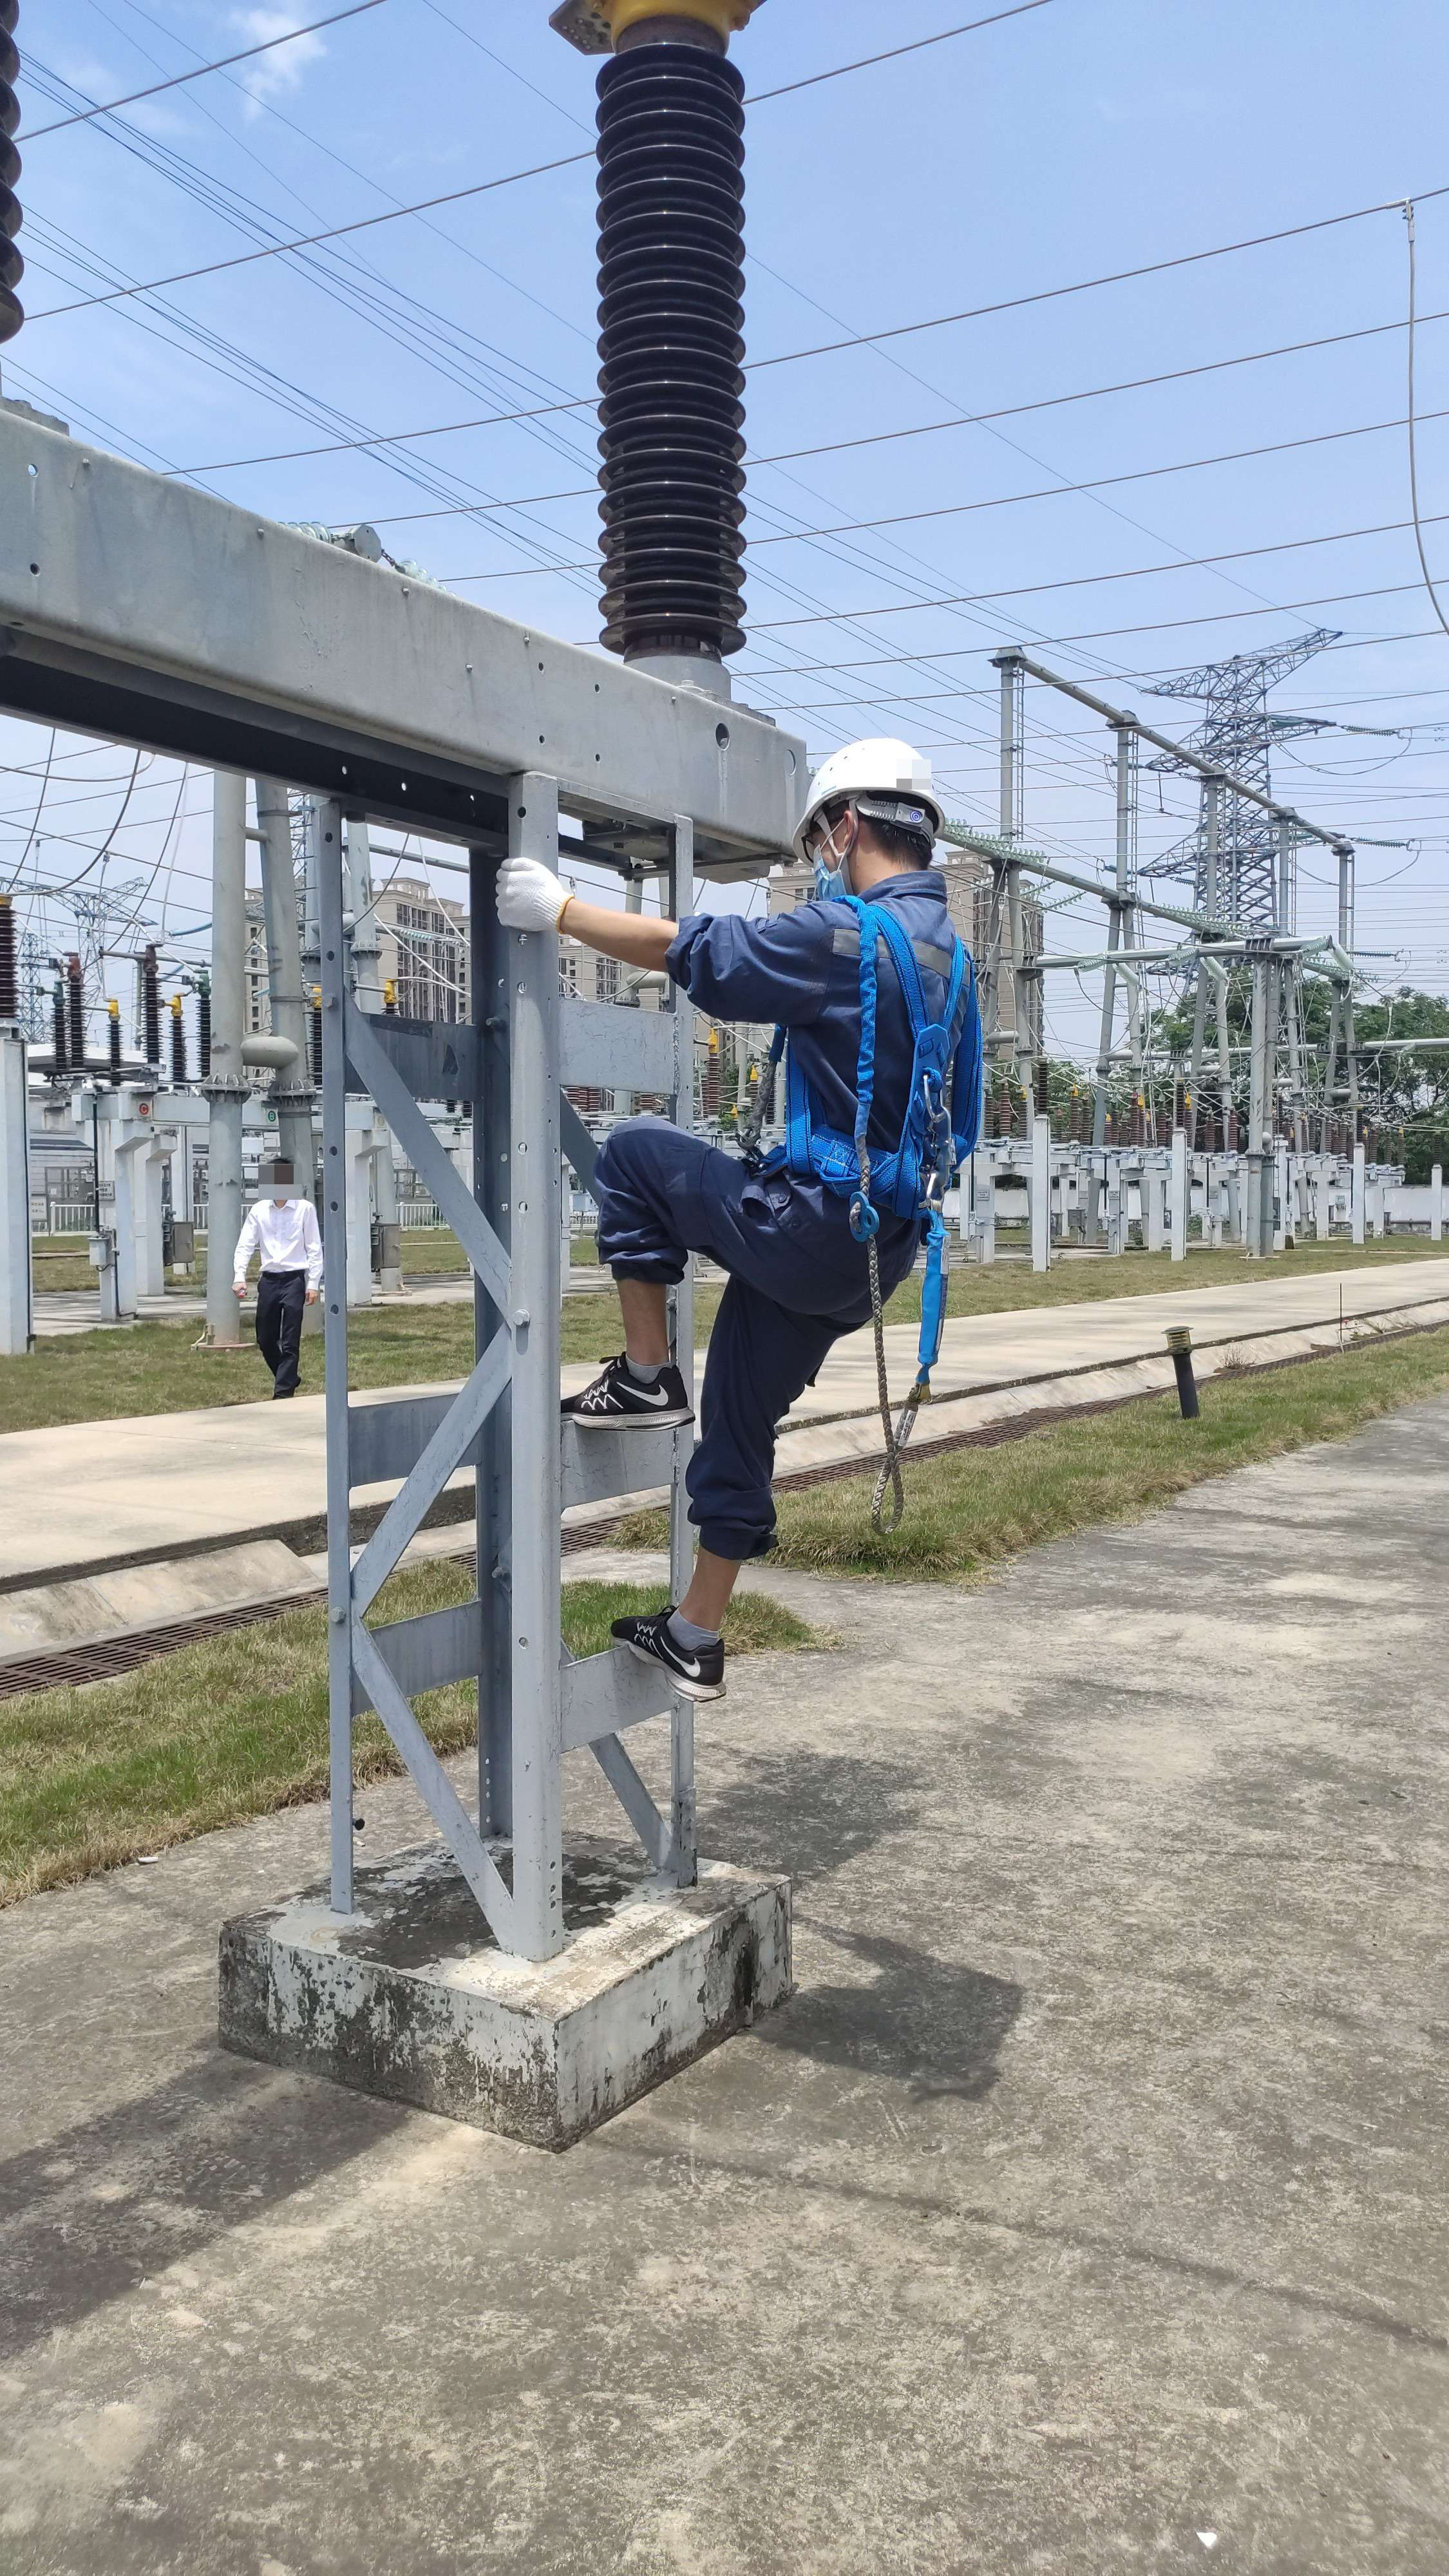downcloth: (258, 1288, 306, 1392)
downsuit: (610, 1139, 931, 1587)
upcloth: (237, 1201, 320, 1283)
upsuit: (789, 890, 970, 1201)
wrongbottom: (603, 1212, 685, 1378), (686, 1488, 777, 1622)
wrongtop: (561, 897, 759, 993)
